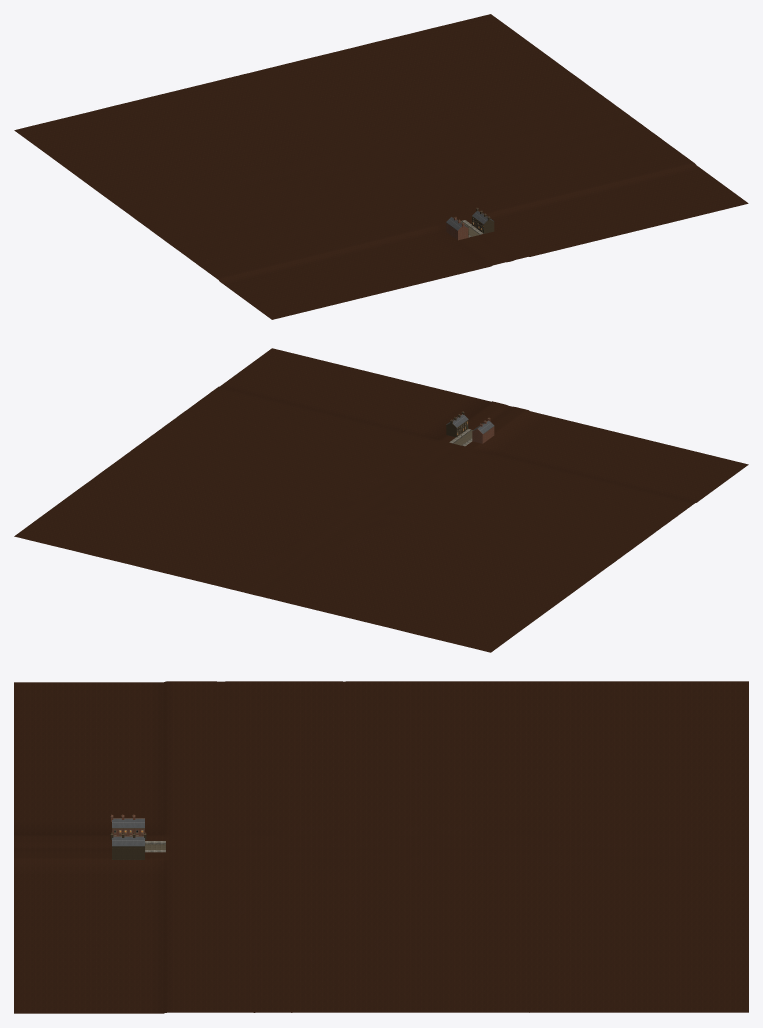
File: works-lane.glb
3 renders of one model, top to bottom at view 1: azimuth 30°, elevation 25°; view 2: azimuth 150°, elevation 25°; view 3: azimuth 270°, elevation 25°, orthographic. The views are drawn at different scales.
Parts seen in each view (by area): view 1: ground; view 2: ground; view 3: ground.
Boxes of the visible parts, x1,y1,x2,y2 form: ground: [14, 14, 748, 319]; ground: [14, 348, 748, 652]; ground: [14, 681, 748, 1013].
Size of what is drawn, in the model's own units: 320 by 11.4 by 300.
30 materials, 30 textured.
